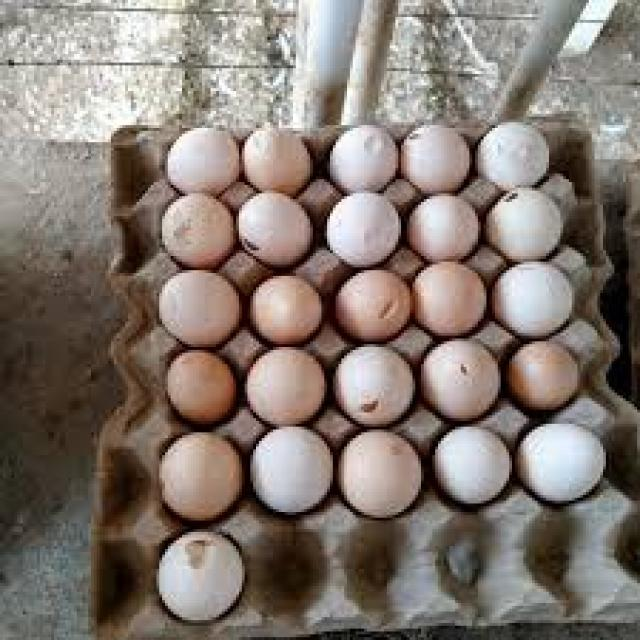biodegradable: (156, 431, 247, 522), (253, 423, 335, 518), (158, 531, 244, 618), (340, 426, 420, 516), (517, 422, 607, 501), (421, 336, 503, 418), (246, 346, 330, 426), (434, 424, 512, 510), (156, 269, 244, 344), (236, 192, 319, 269), (335, 346, 413, 424), (488, 188, 570, 262), (333, 267, 412, 342), (162, 348, 236, 426), (494, 264, 574, 336), (412, 261, 488, 336), (162, 196, 238, 269), (510, 343, 586, 413), (168, 126, 242, 197), (328, 190, 400, 262), (250, 275, 324, 345), (243, 125, 314, 196), (328, 119, 398, 191), (402, 125, 470, 198), (409, 197, 482, 261), (479, 124, 551, 186)
